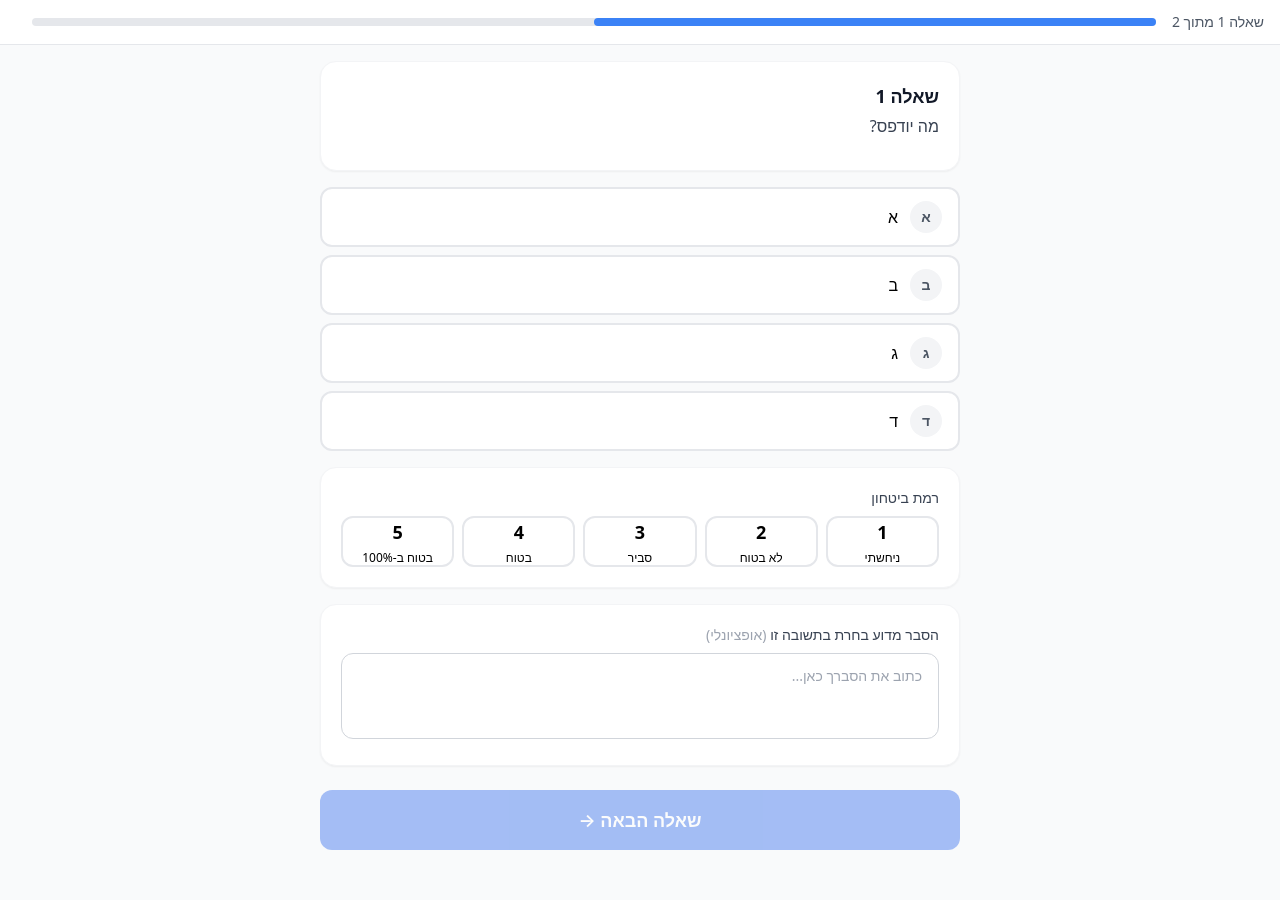
Test: QuizFlow › advances to next question after submission
expect the heading "שאלה 1" is shown: met, box [876,84,939,108]
Click the button "ב ב": (926, 285) [320,255,960,315]
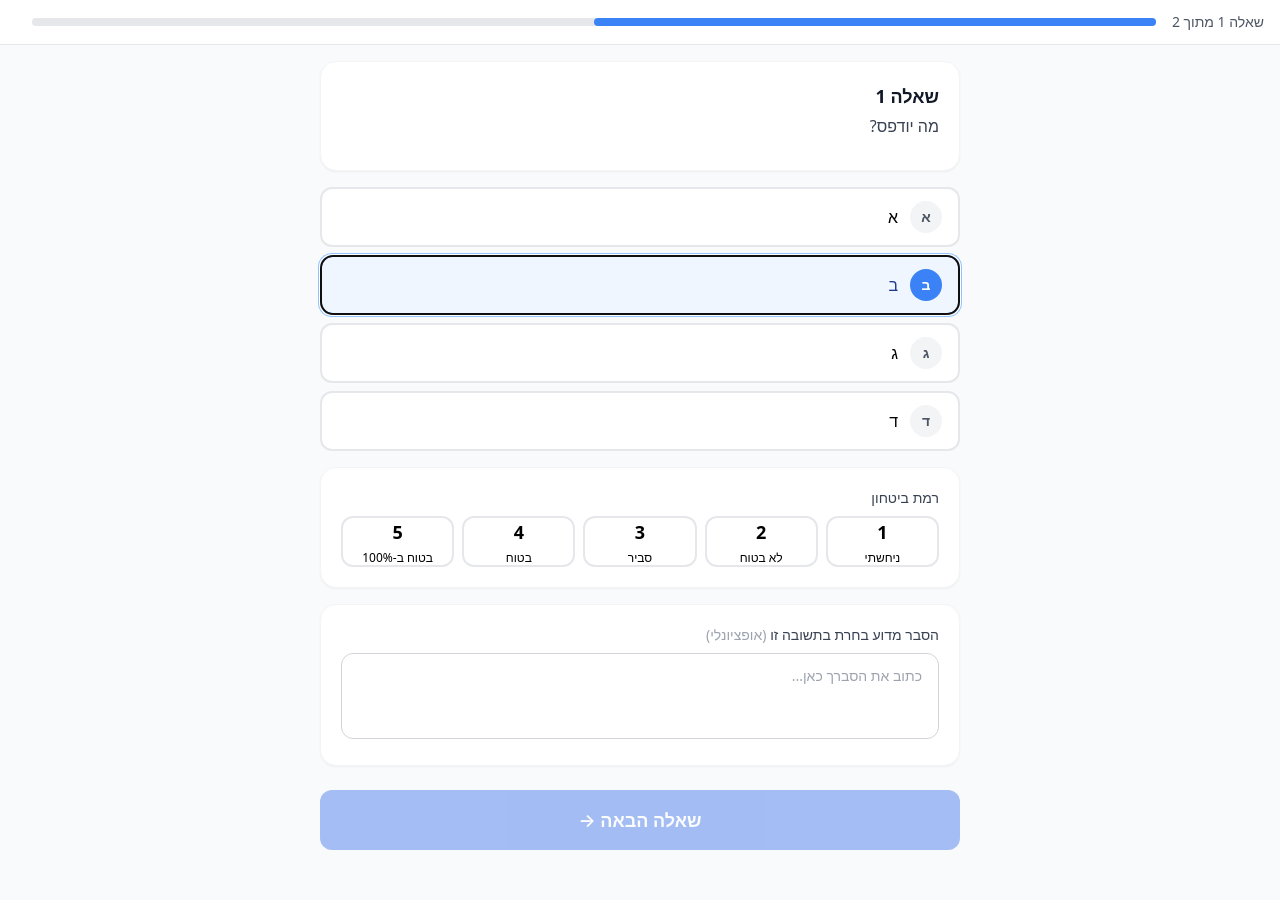
Click the text "3": (640, 532) [635,518,645,546]
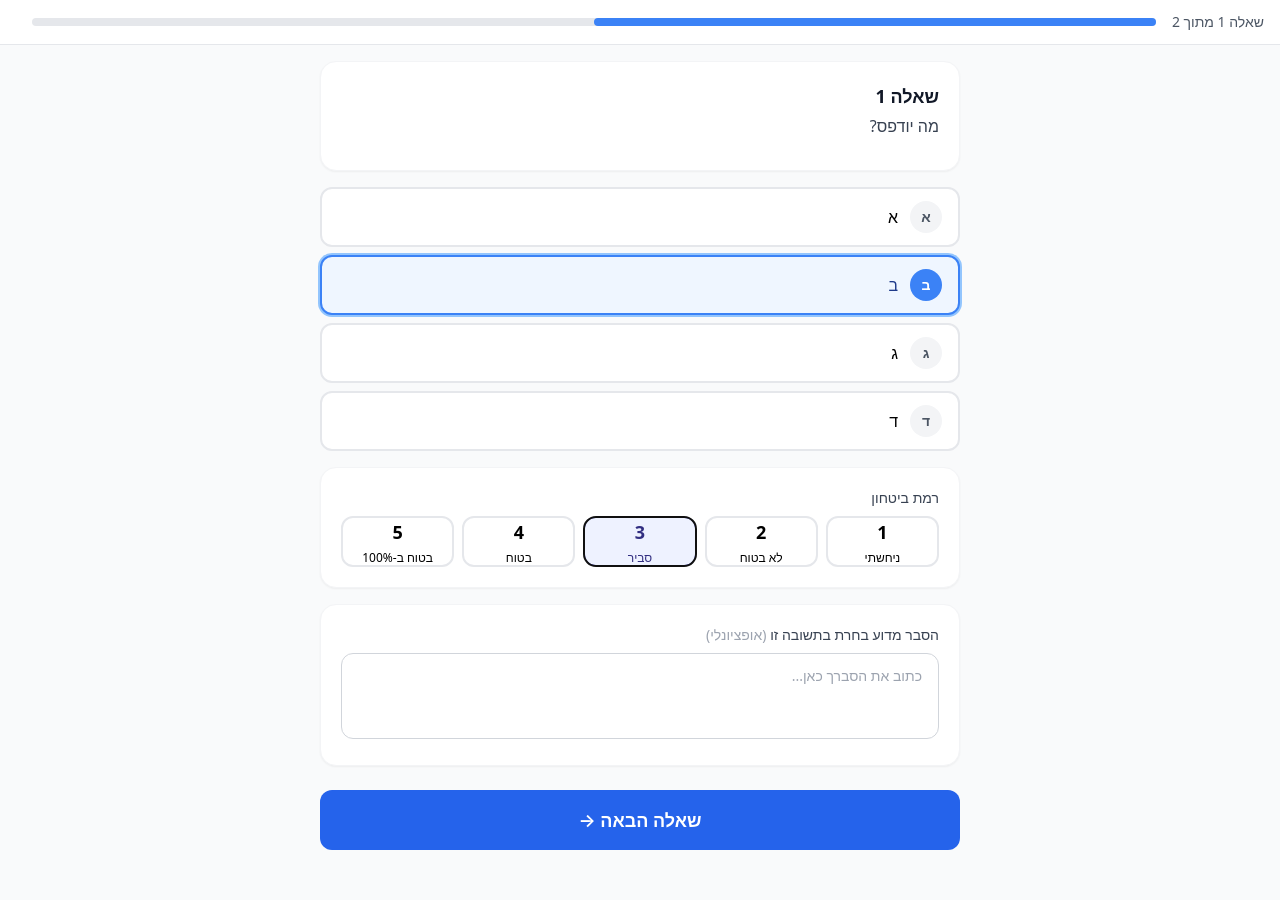
In the text box with placeholder "כתוב את הסברך כאן...": (640, 696) [341,653,939,739], type "הסבר"
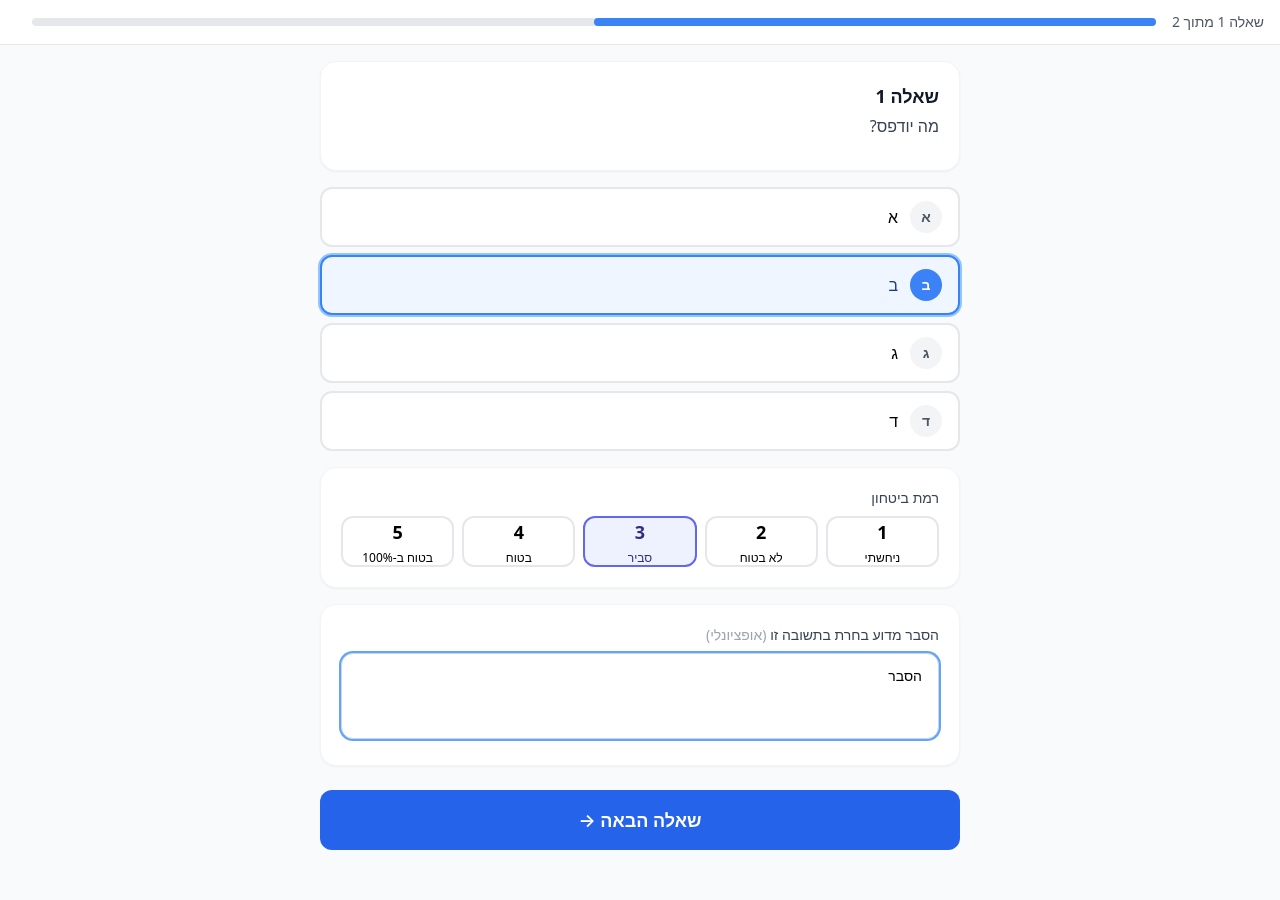
Click the button "שאלה הבאה →": (640, 820) [320,790,960,850]
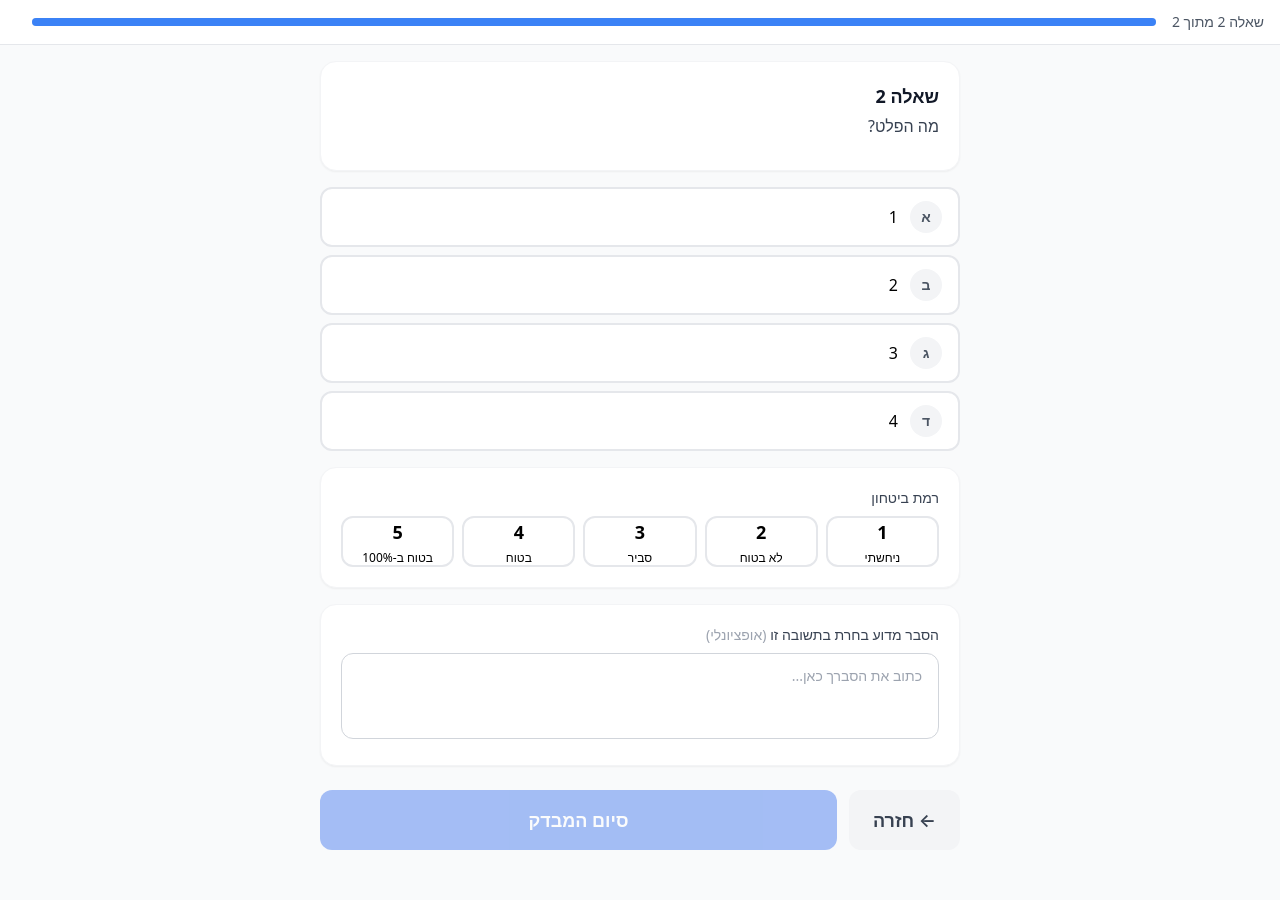
expect the heading "שאלה 2" is shown: met, box [876,84,939,108]
